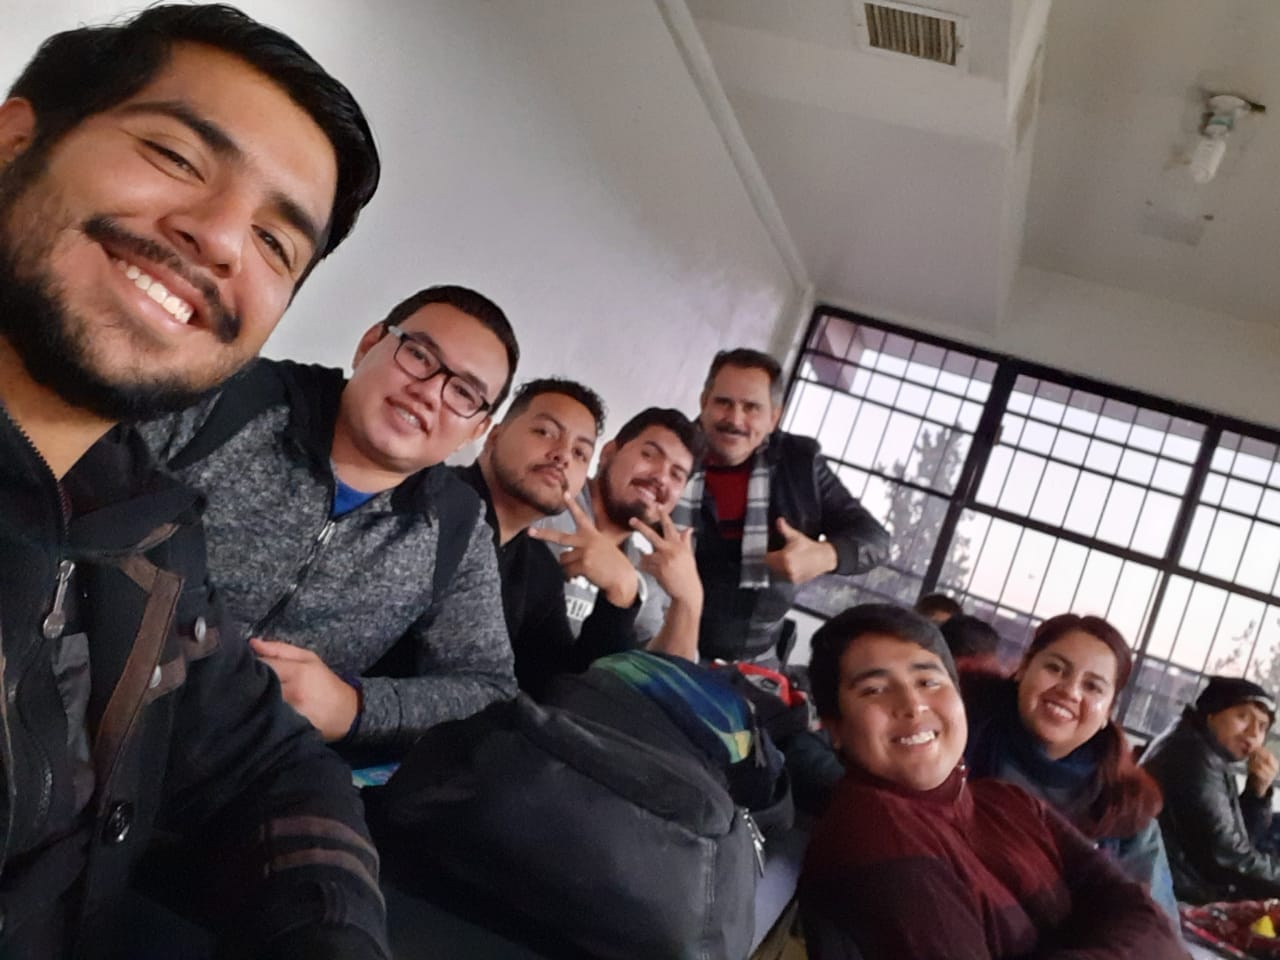Yoshi: (507, 350, 622, 564)
